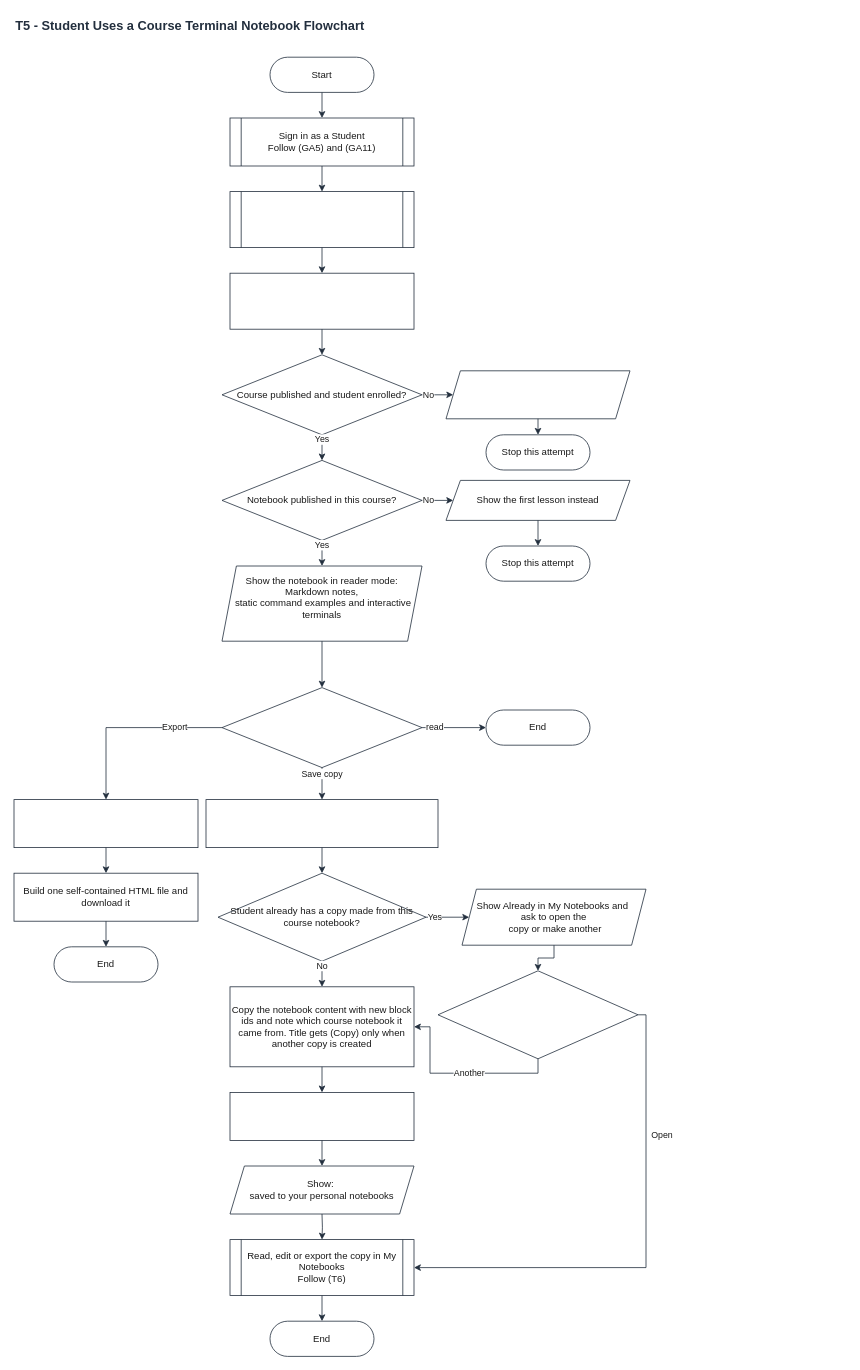
This 860x1370 diagram has some shape labels left out. The shapes that lost their labels are listed below. From the top down, each one's centre as x and y in pixels, then its label:
[321,219]: Open an enrolled course on its learning page Follow (S2)
[321,300]: Select a notebook under Terminal Notebooks
[537,394]: Show Course not found, or the Course Details page to enrol
[321,727]: What does the student do?
[105,823]: Click Export Standalone HTML: GET /Courses/ExportNotebook
[321,823]: Click Save to My Notebooks: POST /Courses/SaveCourseNotebookToPersonal
[537,1014]: Open the existing copy or create another?
[321,1116]: Insert a new row in the student's own notebooks
